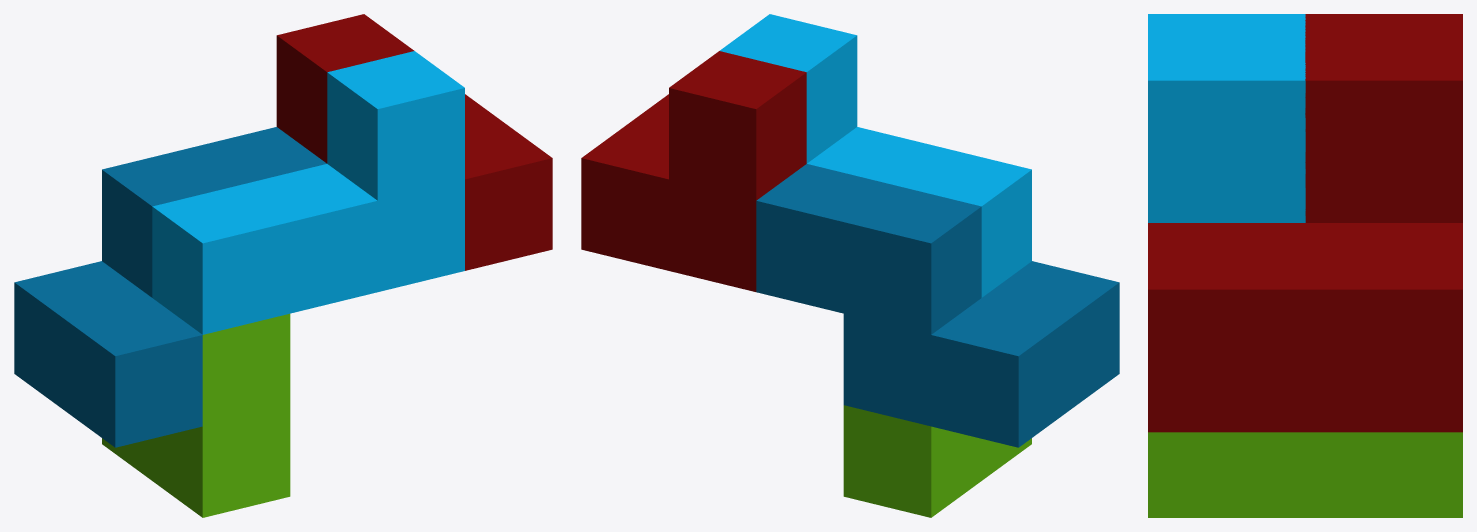
3 views of the same model, side by side, from view 1: azimuth 30°, elevation 25°; view 2: azimuth 150°, elevation 25°; view 3: azimuth 270°, elevation 25° (orthographic). The views are drawn at different scales.
Parts seen in each view (by area): view 1: mergedBlocks(Clone); view 2: mergedBlocks(Clone); view 3: mergedBlocks(Clone).
Part boxes in pixels (x1,y1,x2,y2): mergedBlocks(Clone): (14, 14, 552, 517); mergedBlocks(Clone): (581, 14, 1119, 517); mergedBlocks(Clone): (1148, 14, 1462, 517).
Size of the model in its own units: 5 by 4 by 2.
Materials: 4 (4 with a texture image).
